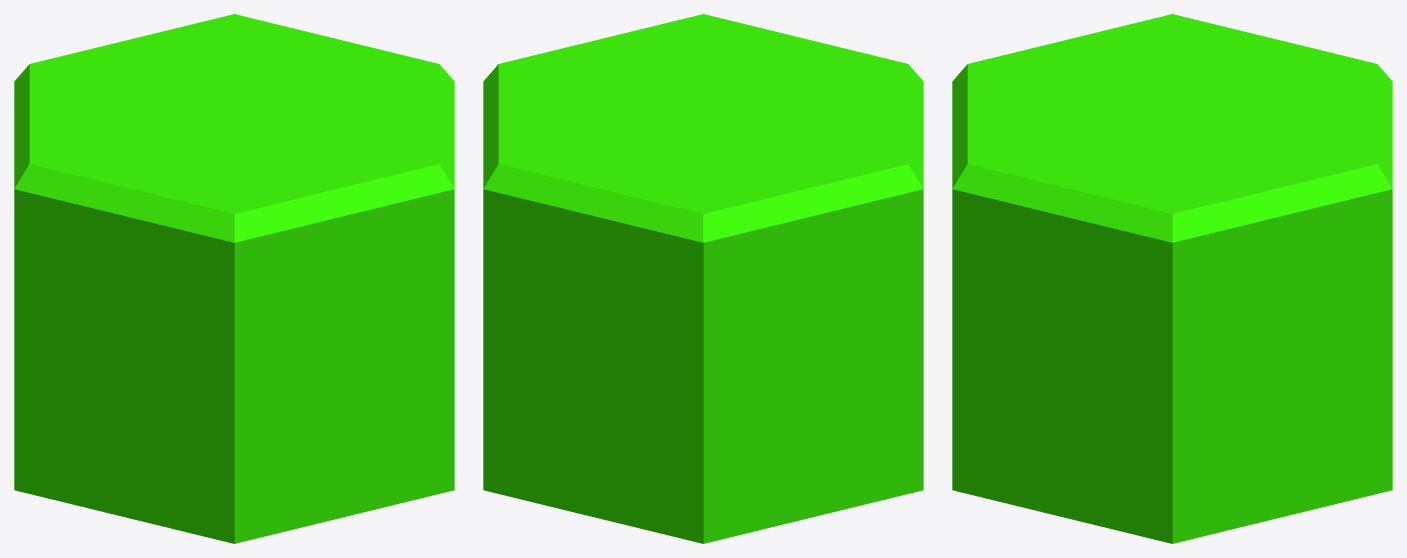
Rendered from StaticObstacle_Medium.fbx.
The picture shows the model from 3 angles, left to right: view 1: azimuth 30°, elevation 25°; view 2: azimuth 150°, elevation 25°; view 3: azimuth 270°, elevation 25°; orthographic projection.
Visible parts, largest first — view 1: StaticObstacle_Medium; view 2: StaticObstacle_Medium; view 3: StaticObstacle_Medium.
Boxes of the visible parts, left/top/right/bottom form: StaticObstacle_Medium: left=14, top=14, right=454, bottom=543; StaticObstacle_Medium: left=483, top=14, right=923, bottom=543; StaticObstacle_Medium: left=952, top=14, right=1392, bottom=543.
Size of the model in its own units: 2 by 1.4 by 1.73.
